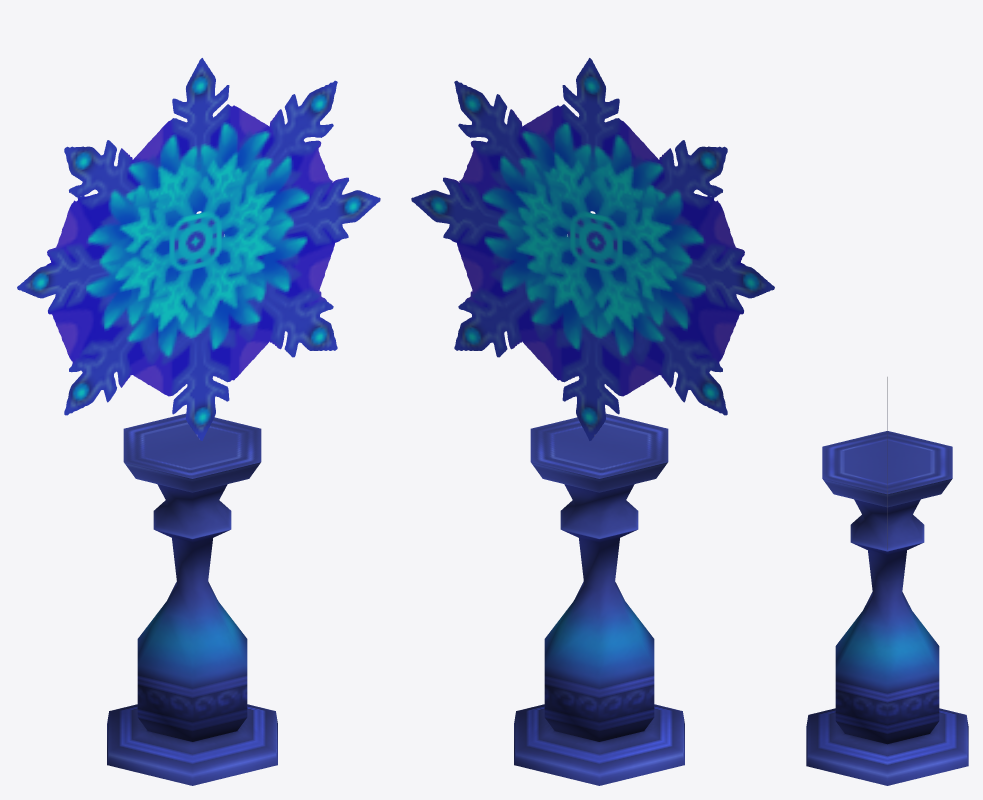
The model's file is SnowFlake2.FBX.
3 renders of one model, left to right at view 1: azimuth 30°, elevation 25°; view 2: azimuth 150°, elevation 25°; view 3: azimuth 270°, elevation 25°, orthographic. The views are drawn at different scales.
Visible parts, largest first — view 1: SnowFlake2, SnowFlake_Flower001; view 2: SnowFlake2, SnowFlake_Flower001; view 3: SnowFlake_Flower001.
Part boxes in pixels (x1=…): SnowFlake2: x1=17, y1=58, x2=380, y2=440; SnowFlake_Flower001: x1=107, y1=413, x2=277, y2=785; SnowFlake2: x1=411, y1=58, x2=774, y2=440; SnowFlake_Flower001: x1=514, y1=413, x2=684, y2=785; SnowFlake_Flower001: x1=806, y1=431, x2=968, y2=785.
Size of the model in its own units: 105 by 187 by 42.21.
